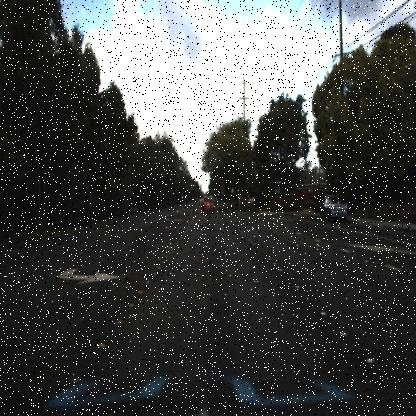car: (316, 190, 350, 224), (200, 190, 216, 219)
